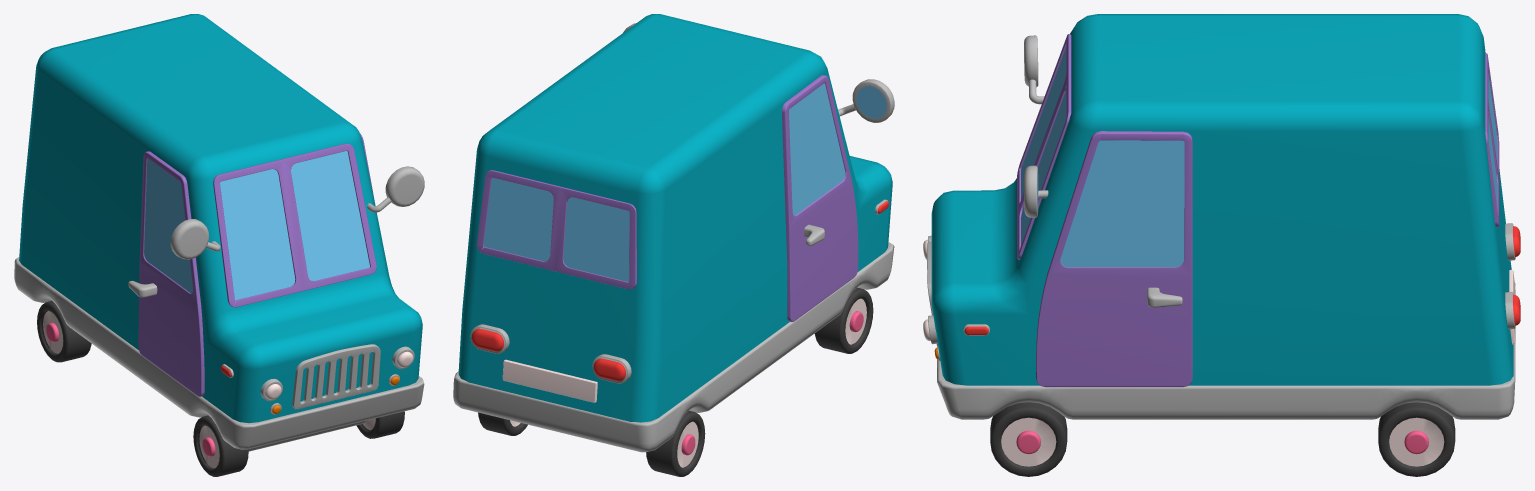
Rendered from City_19_Car_1.glb.
3 views of the same model, side by side, from view 1: azimuth 30°, elevation 25°; view 2: azimuth 150°, elevation 25°; view 3: azimuth 270°, elevation 25° (orthographic). The views are drawn at different scales.
Visible parts, largest first — view 1: City_19_Car_1; view 2: City_19_Car_1; view 3: City_19_Car_1.
Part boxes in pixels (x1,y1,x2,y2): City_19_Car_1: (14, 14, 424, 476); City_19_Car_1: (453, 14, 894, 476); City_19_Car_1: (923, 14, 1520, 476).
Size of the model in its own units: 2.51 by 2.8 by 4.16.
1 material, 1 textured.
